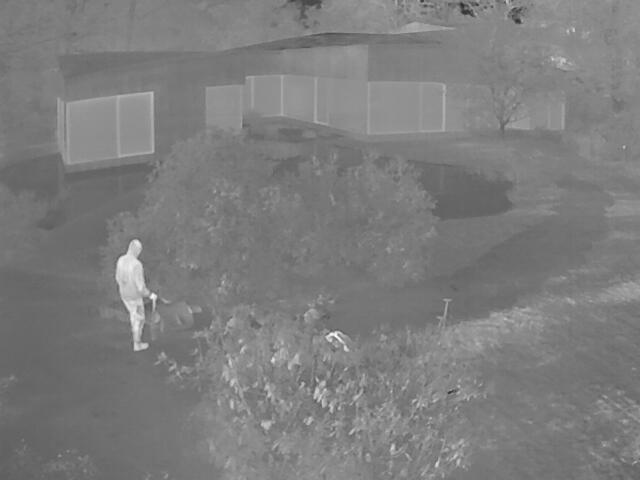person: (112, 238, 154, 352)
